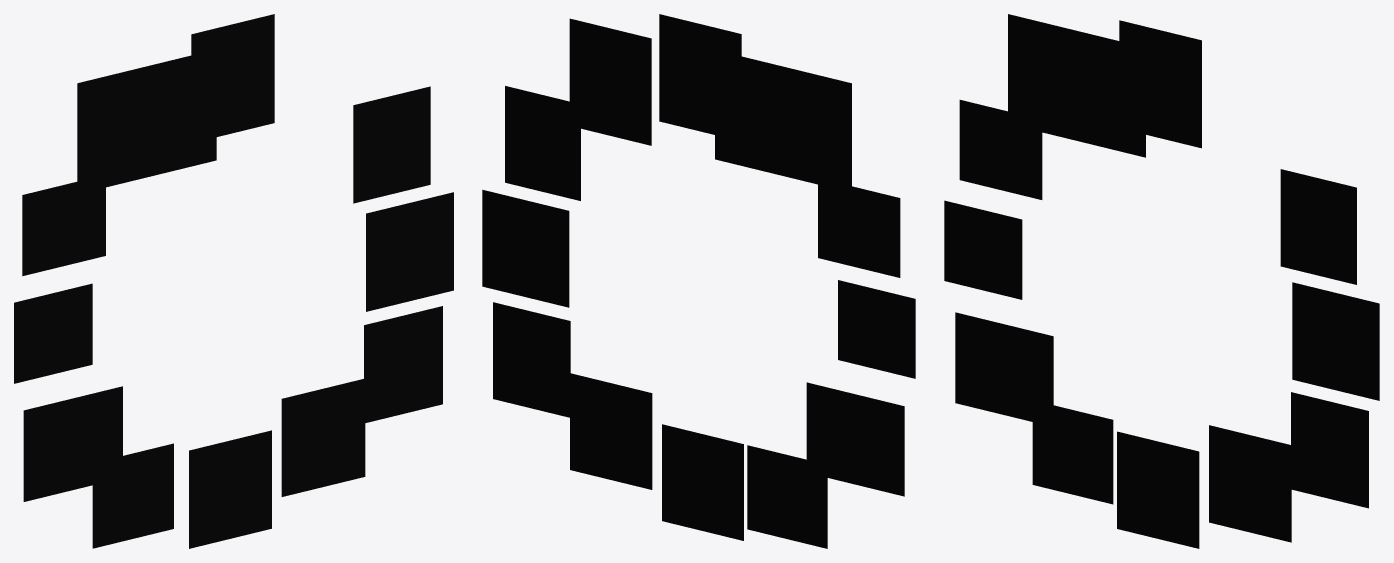
File: sayilar.fbx
3 renders of one model, left to right at view 1: azimuth 30°, elevation 25°; view 2: azimuth 150°, elevation 25°; view 3: azimuth 330°, elevation 25°, orthographic.
Parts seen in each view (by area): view 1: pngegg.010; view 2: pngegg.010; view 3: pngegg.010.
Boxes of the visible parts, x1=… form: pngegg.010: x1=14, y1=14, x2=453, y2=548; pngegg.010: x1=482, y1=14, x2=915, y2=548; pngegg.010: x1=944, y1=14, x2=1379, y2=548.
Size of the model in its own units: 159 by 178 by 3.53.
Materials: 1 (1 with a texture image).
